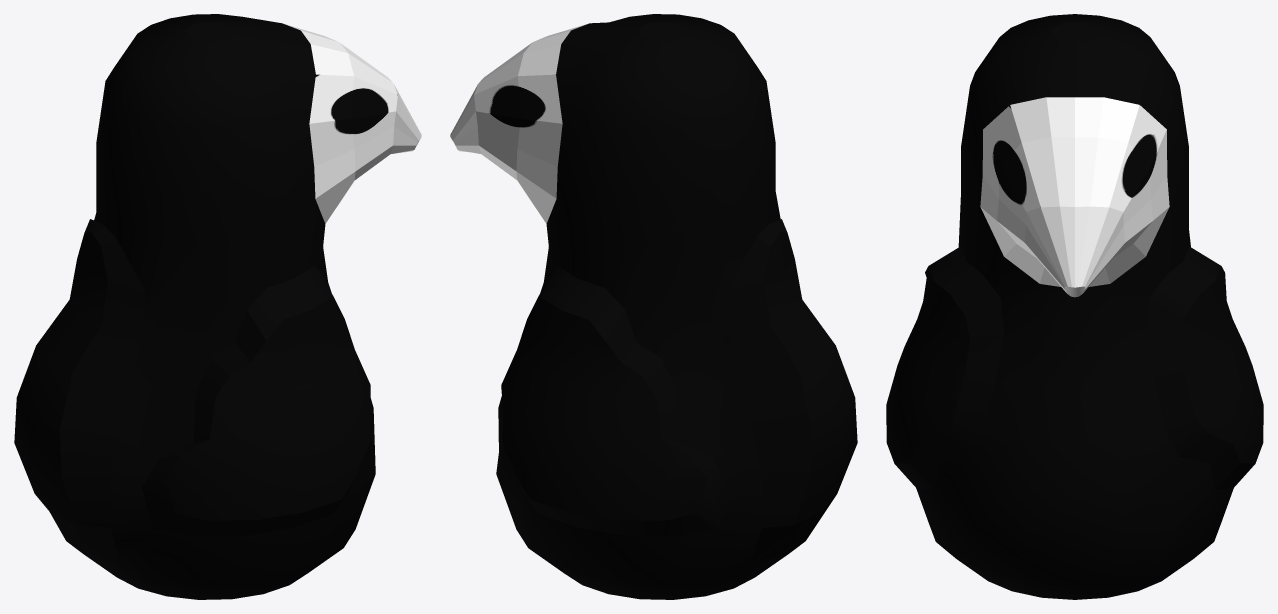
The model's file is trinket.fbx.
The picture shows the model from 3 angles, left to right: view 1: azimuth 30°, elevation 25°; view 2: azimuth 150°, elevation 25°; view 3: azimuth 270°, elevation 25°; orthographic projection.
Visible parts, largest first — view 1: pCylinder4; view 2: pCylinder4; view 3: pCylinder4.
Boxes of the visible parts, x1=… form: pCylinder4: x1=14, y1=14, x2=421, y2=599; pCylinder4: x1=450, y1=14, x2=857, y2=599; pCylinder4: x1=886, y1=14, x2=1263, y2=599.
Size of the model in its own units: 3.58 by 4.59 by 3.
